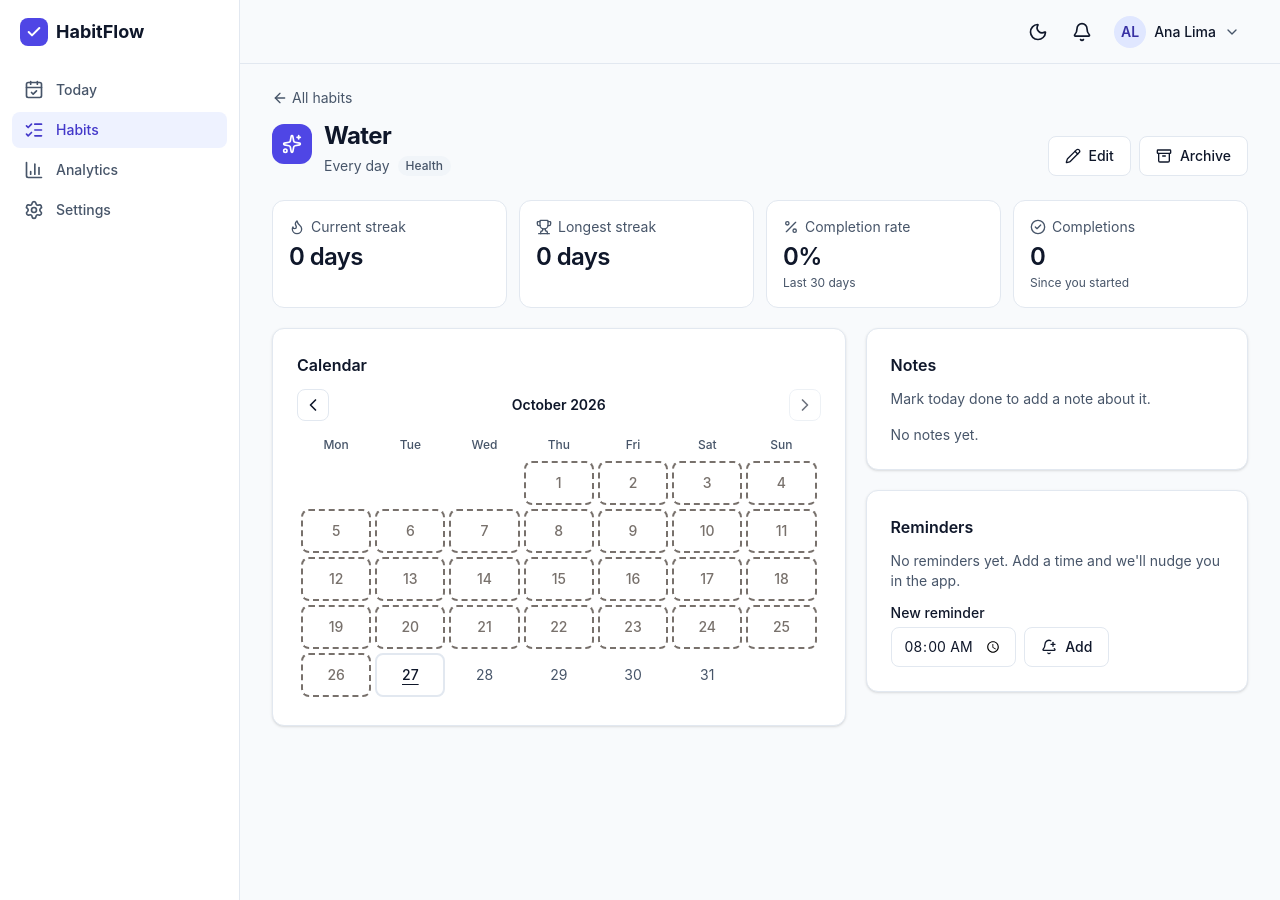
adds, switches off and deletes a reminder
Expected: the text "No reminders yet. Add a time and we'll nudge you in the app." is shown, [891, 551, 1223, 591]
Clear the time field labelled "New reminder": (953, 647) [891, 627, 1016, 667]
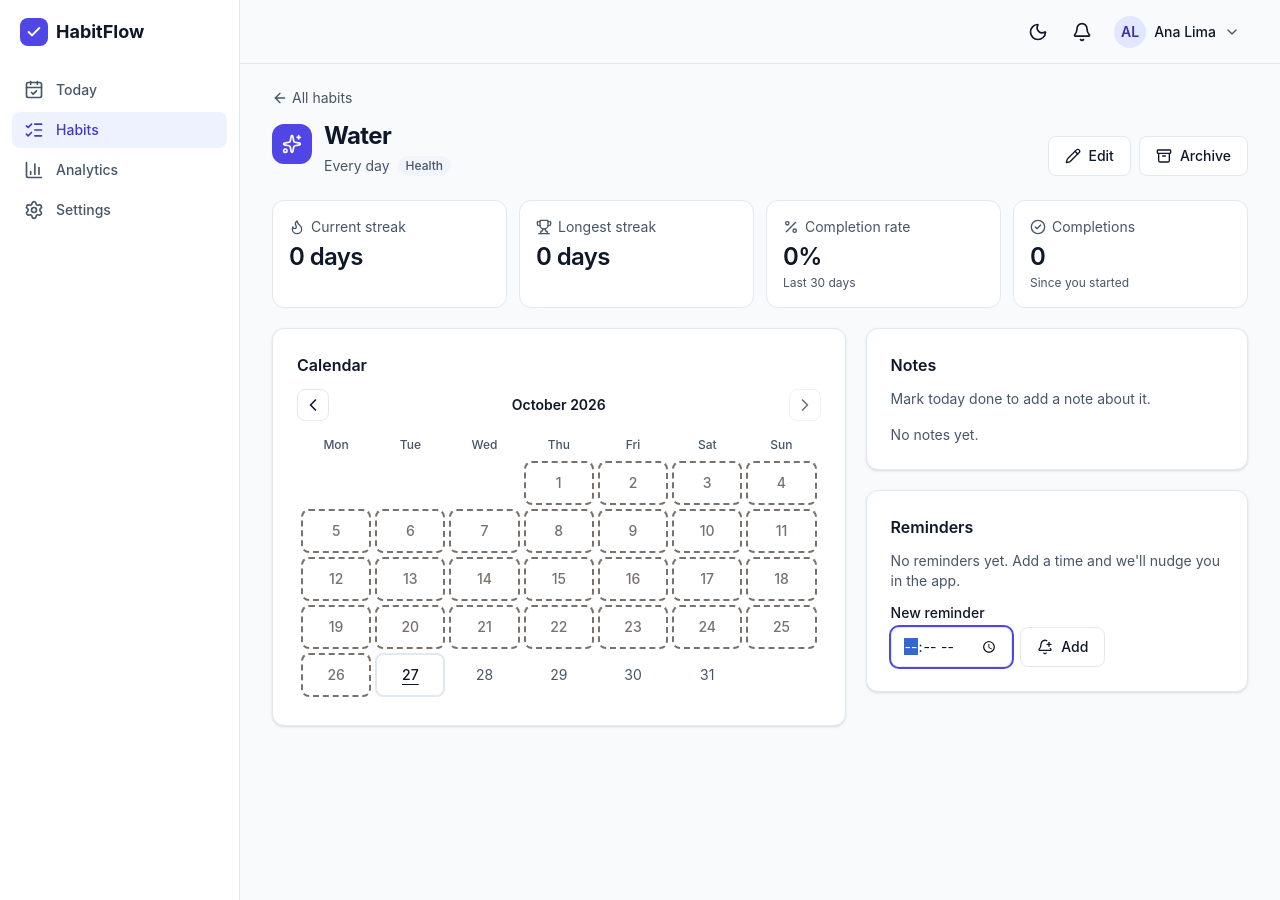
In the time field labelled "New reminder": (951, 647) [891, 627, 1012, 667], type "07:30"
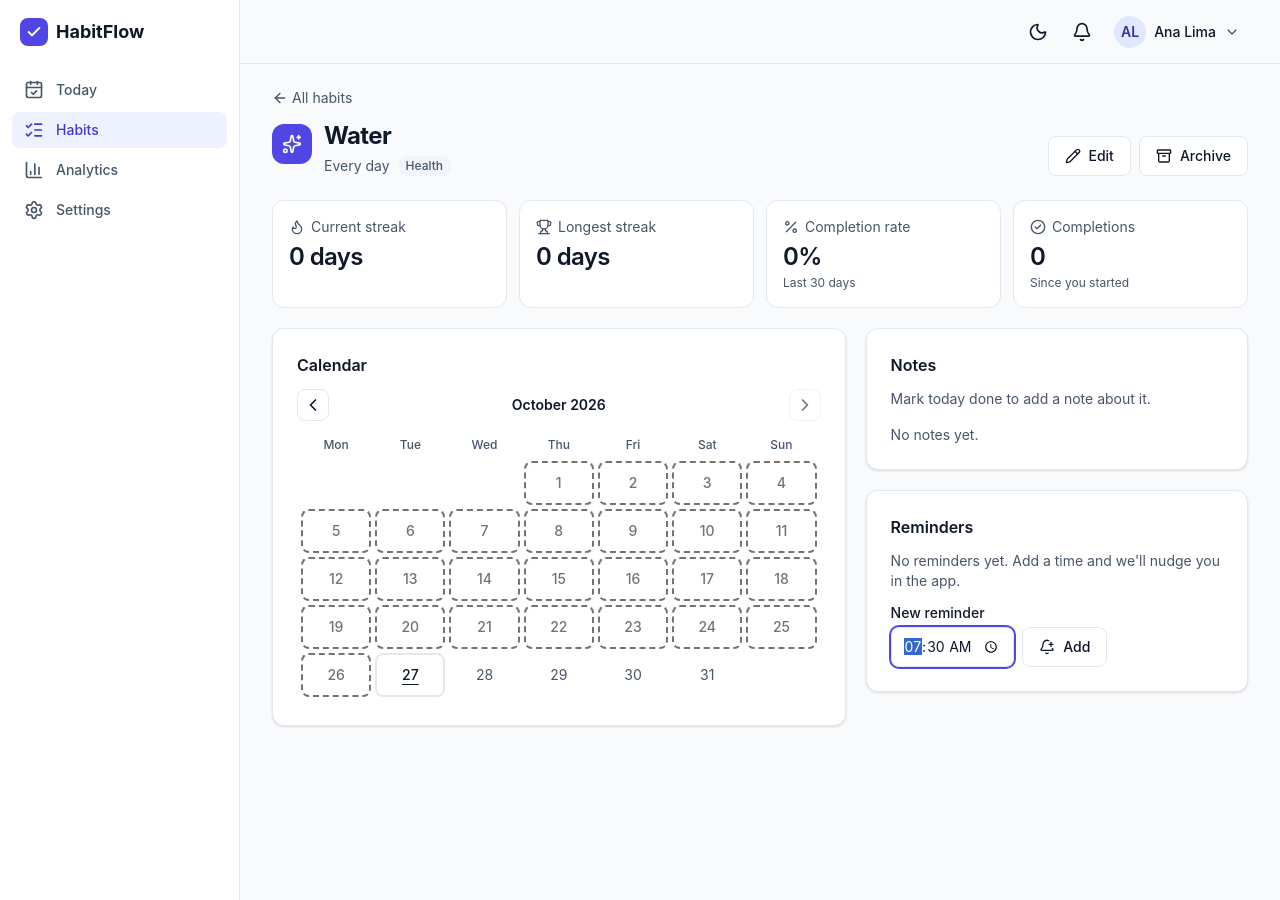
Click the button "Add": (1065, 647) [1022, 627, 1107, 667]
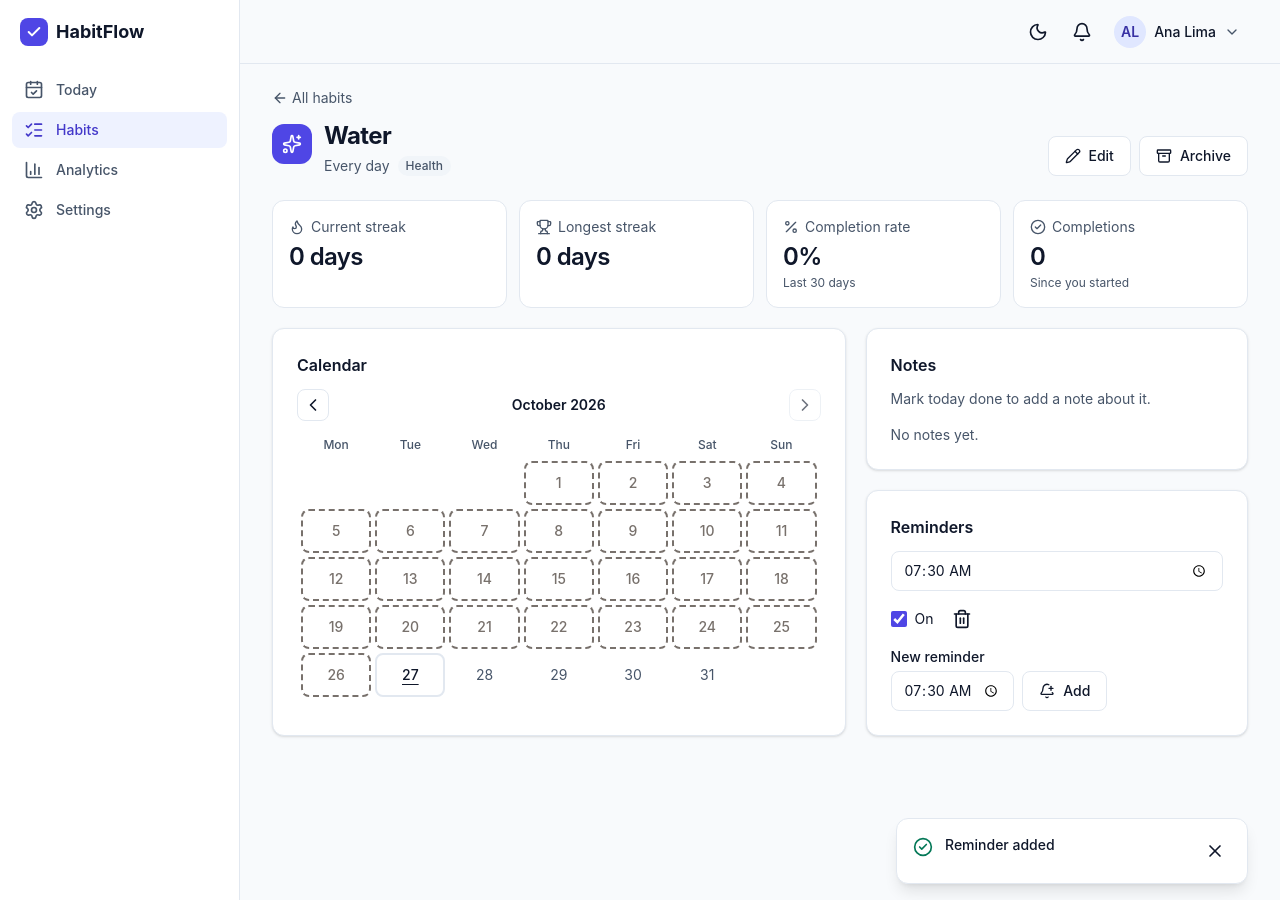
Expected: the time field named "Reminder 1 time" holds "07:30", [891, 551, 1223, 591]
Click the checkbox labelled "On": (899, 619) [891, 611, 907, 627]
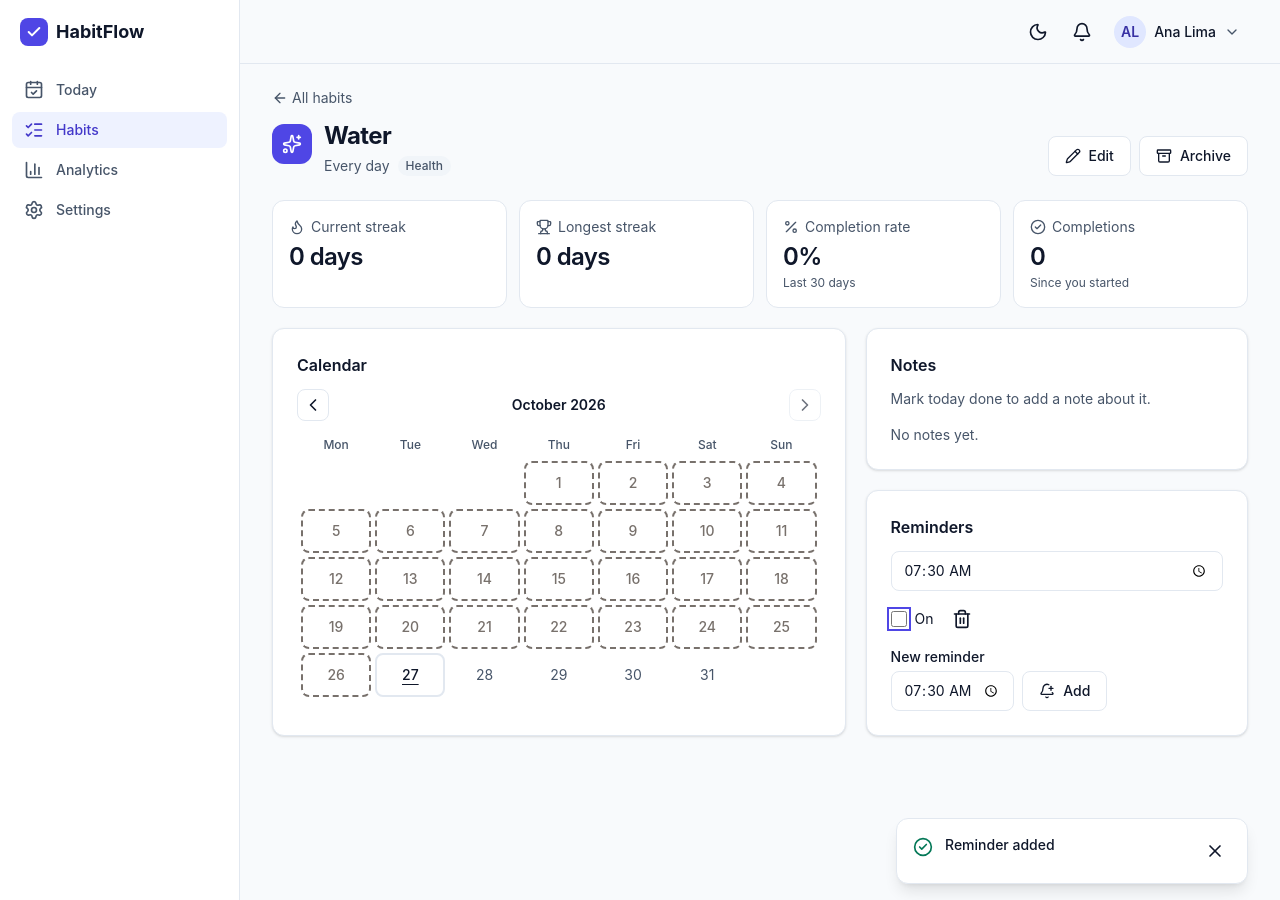
Click the button named "Delete reminder at 07:30": (962, 619) [946, 603, 978, 635]
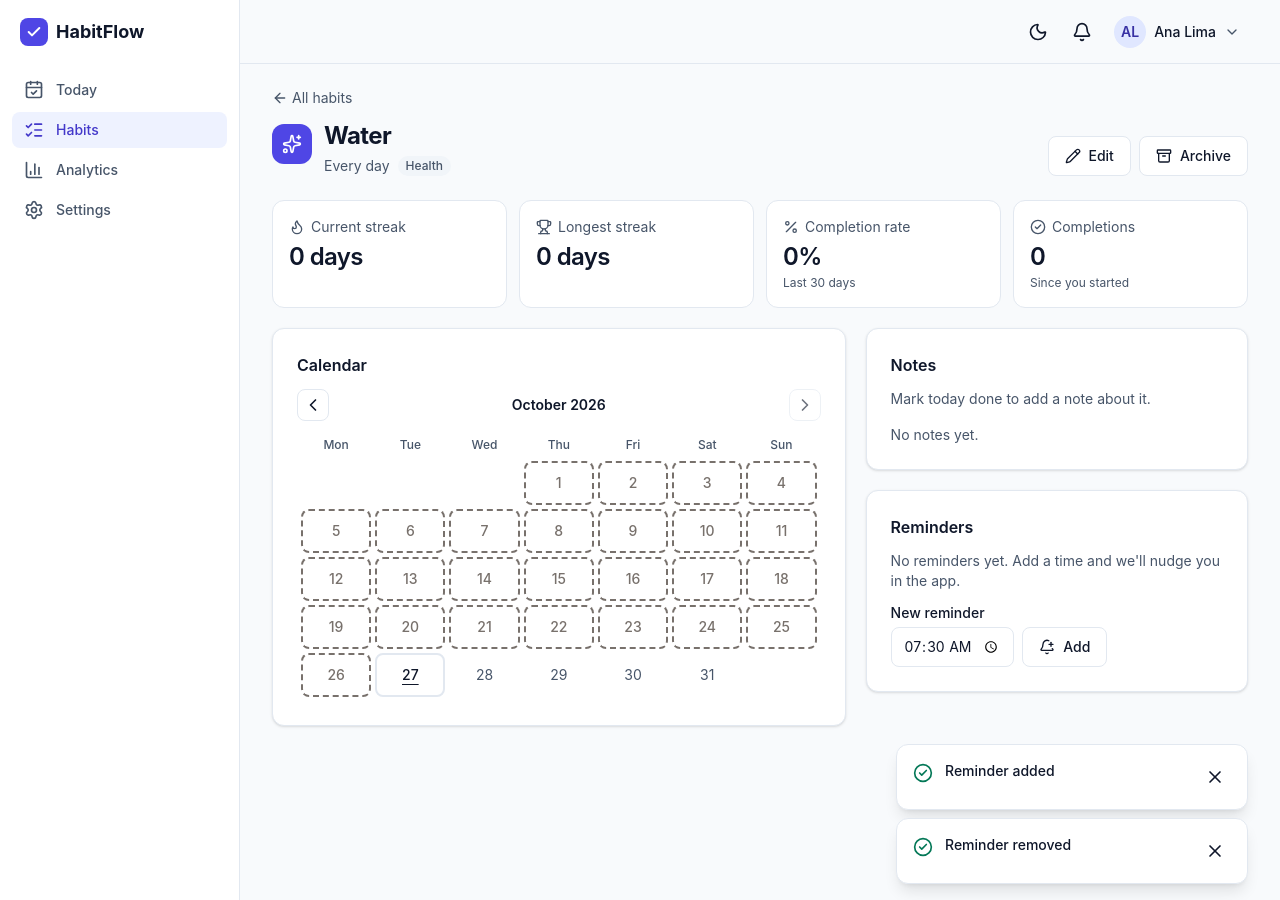
Expected: the text "No reminders yet. Add a time and we'll nudge you in the app." is shown, [891, 551, 1223, 591]
